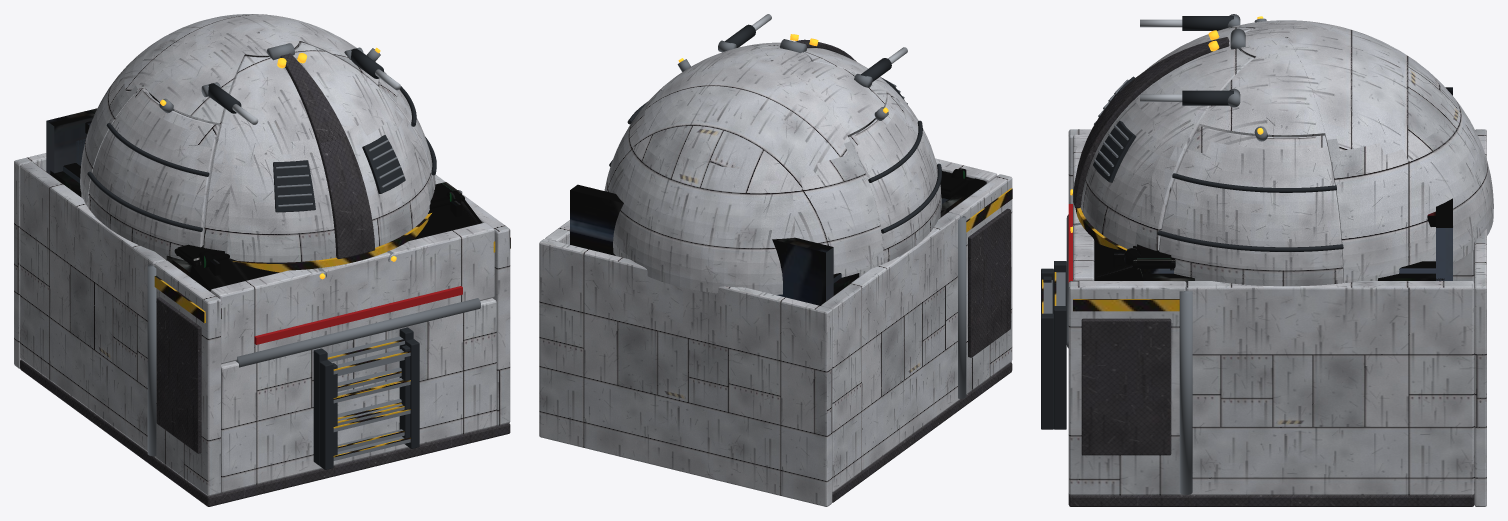
Rendered from cockpit_breeze.glb.
3 views of the same model, side by side, from view 1: azimuth 30°, elevation 25°; view 2: azimuth 150°, elevation 25°; view 3: azimuth 270°, elevation 25° (orthographic). The views are drawn at different scales.
Parts seen in each view (by area): view 1: pod_ext, HATCH_upper_ext, HATCH_lower_ext, DOOR_R_ext, FLAP_R_ext, STAIR_2_ext, CONSOLE_front_front, FLAP_L_ext, pod_cabin, STAIR_1_ext, STAIR_3_ext, DOOR_L_ext; view 2: pod_ext, FLAP_R_ext, DOOR_R_ext, pod_cabin, HATCH_upper_ext, CONSOLE_front_front, HATCH_lower_ext; view 3: pod_ext, DOOR_L_ext, FLAP_L_ext, HATCH_upper_ext, pod_cabin, CONSOLE_front_front, STAIR_1_ext, STAIR_2_ext, HATCH_lower_ext, STRUT_L_ext, STRUT_R_ext.
Boxes of the visible parts, x1,y1,x2,y2 form: pod_ext: (14,14,510,506); HATCH_upper_ext: (203,42,434,272); HATCH_lower_ext: (210,222,494,364); DOOR_R_ext: (87,87,219,260); FLAP_R_ext: (154,260,221,496); STAIR_2_ext: (319,339,419,469); CONSOLE_front_front: (174,182,482,291); FLAP_L_ext: (462,194,510,425); pod_cabin: (46,93,480,288); STAIR_1_ext: (313,327,413,465); STAIR_3_ext: (333,345,410,455); DOOR_L_ext: (377,71,436,190); pod_ext: (539,39,1012,506); FLAP_R_ext: (949,174,1012,394); DOOR_R_ext: (848,92,941,263); pod_cabin: (570,118,984,305); HATCH_upper_ext: (749,34,934,156); CONSOLE_front_front: (940,168,986,199); HATCH_lower_ext: (935,158,997,183); pod_ext: (1066,14,1493,506); DOOR_L_ext: (1157,126,1343,286); FLAP_L_ext: (1068,281,1186,495); HATCH_upper_ext: (1073,27,1253,250); pod_cabin: (1094,87,1452,282); CONSOLE_front_front: (1094,242,1175,280); STAIR_1_ext: (1054,261,1066,429); STAIR_2_ext: (1041,268,1053,429); HATCH_lower_ext: (1068,134,1094,282); STRUT_L_ext: (1182,90,1233,105); STRUT_R_ext: (1182,16,1233,30).
Size of the model in its own units: 1.82 by 2.04 by 2.12.
18 materials, 11 textured.
